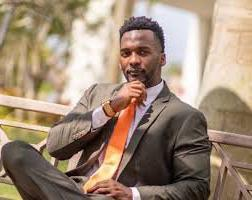Sober: (119, 33, 158, 80)
